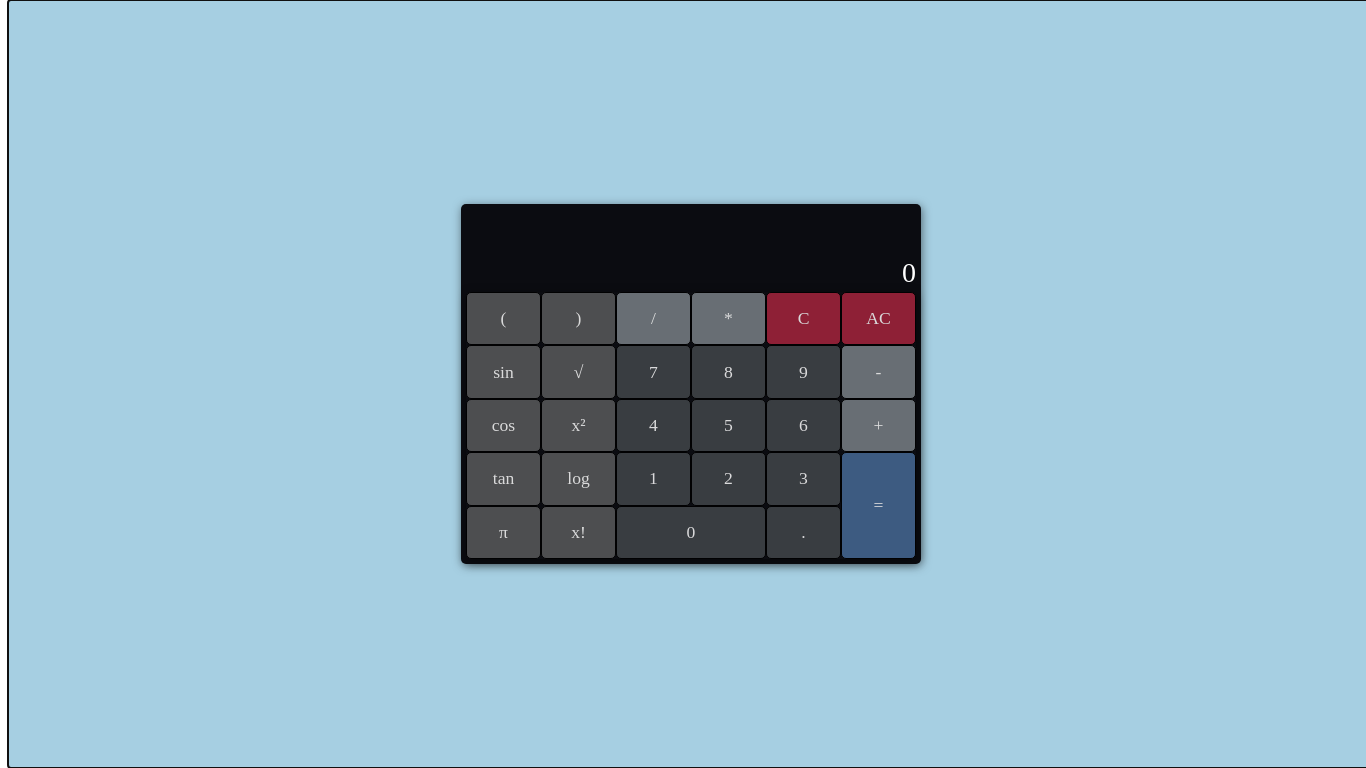
calculates entered expression
The image size is (1366, 768).
Click the button with id "five" at (728, 426), box [691, 399, 766, 452]
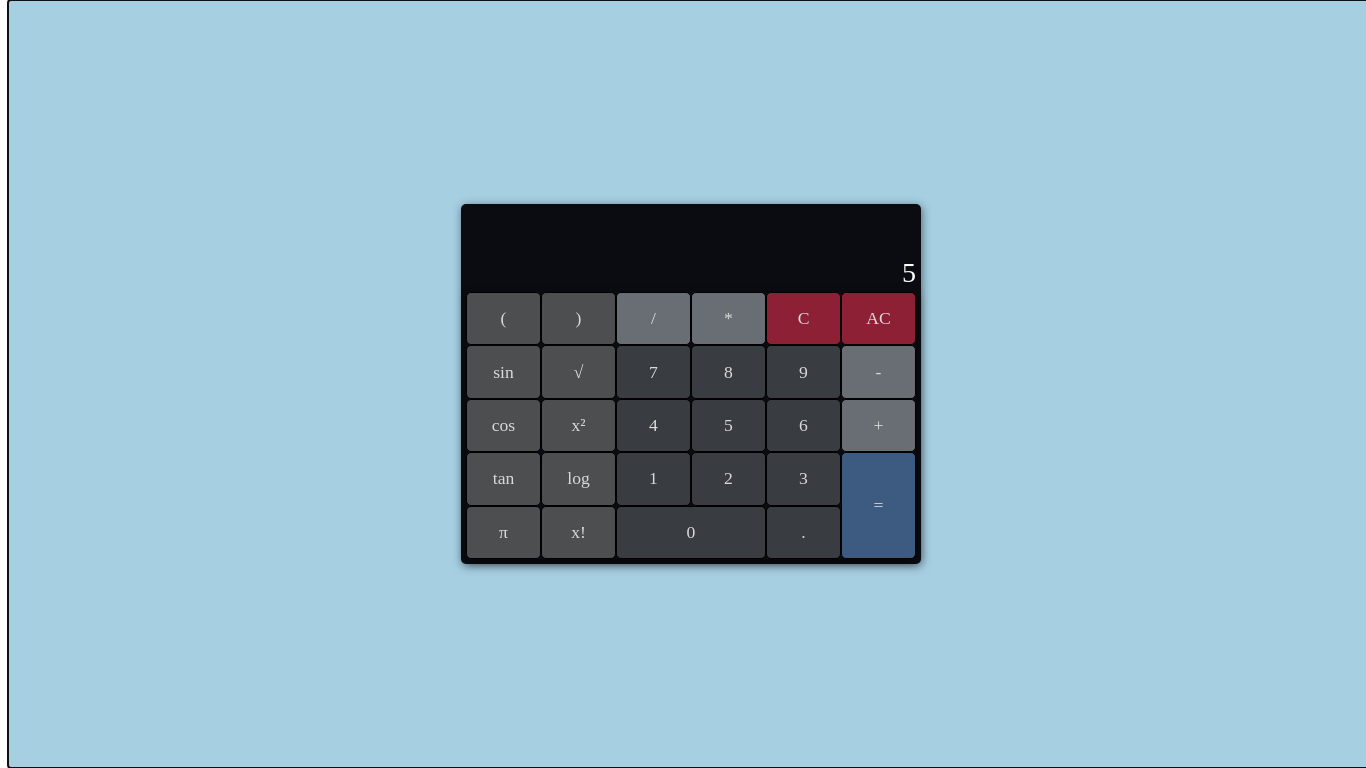
Click the button with id "add" at (878, 426), box [841, 399, 916, 452]
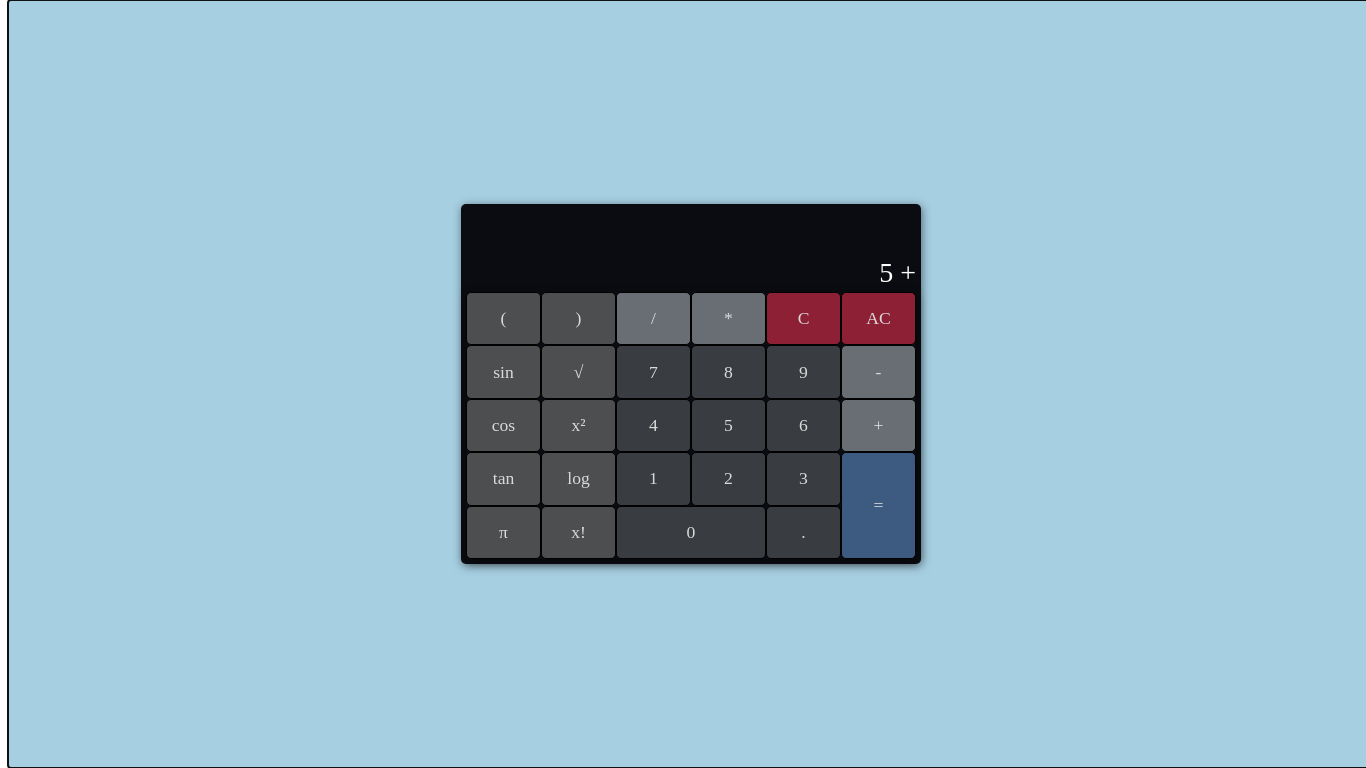
Click the button with id "six" at (804, 426), box [766, 399, 841, 452]
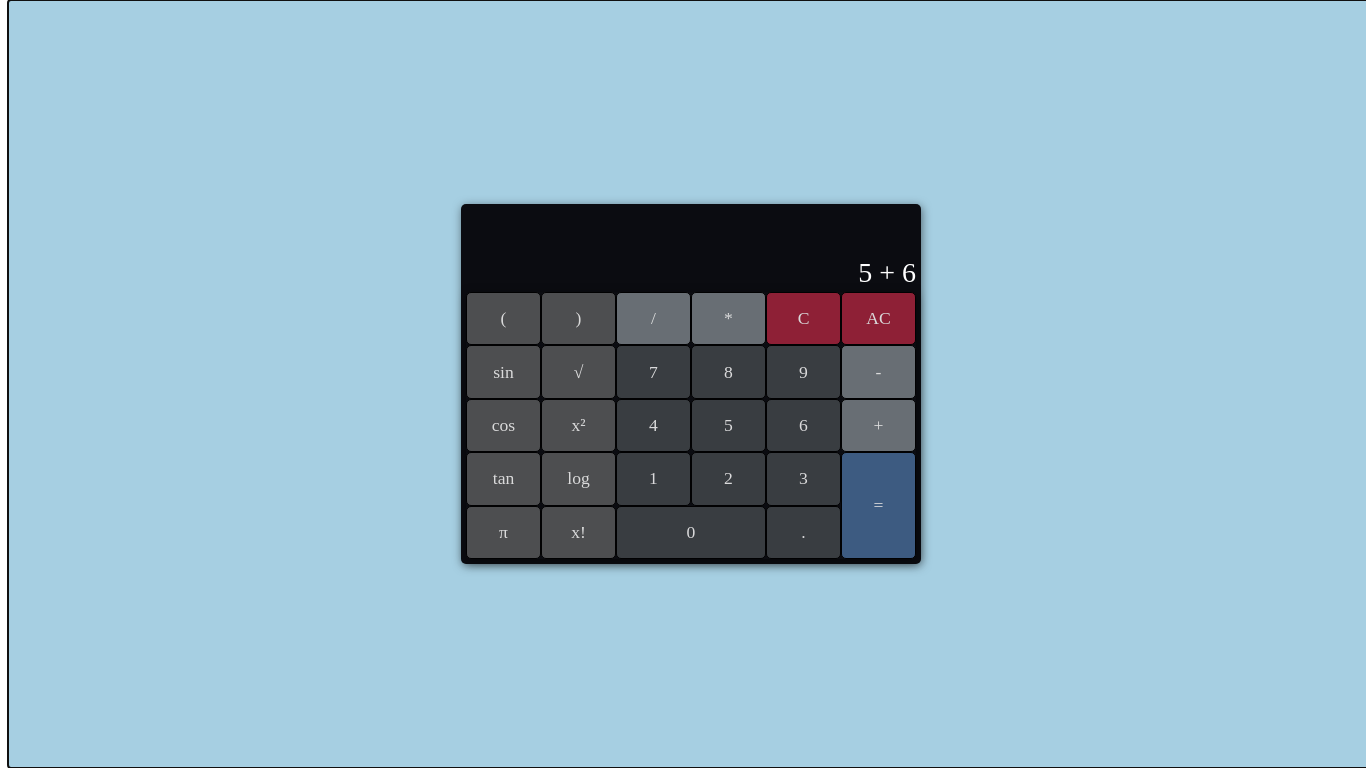
Click the button with id "equals" at (878, 506), box [841, 452, 916, 559]
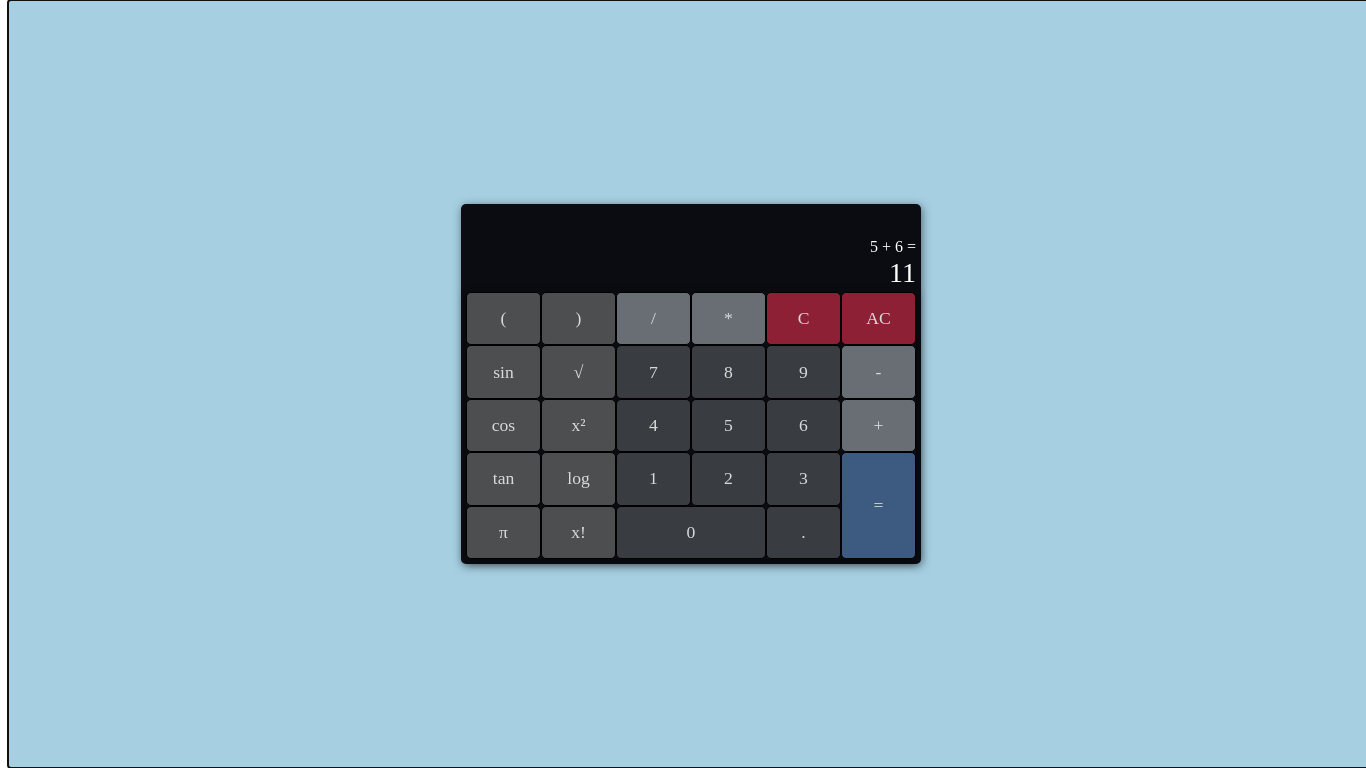
Check: the text with id "result" reads "11", box [889, 257, 916, 288]
Check: the text with id "expression" reads "5 + 6 =", box [870, 238, 916, 255]
